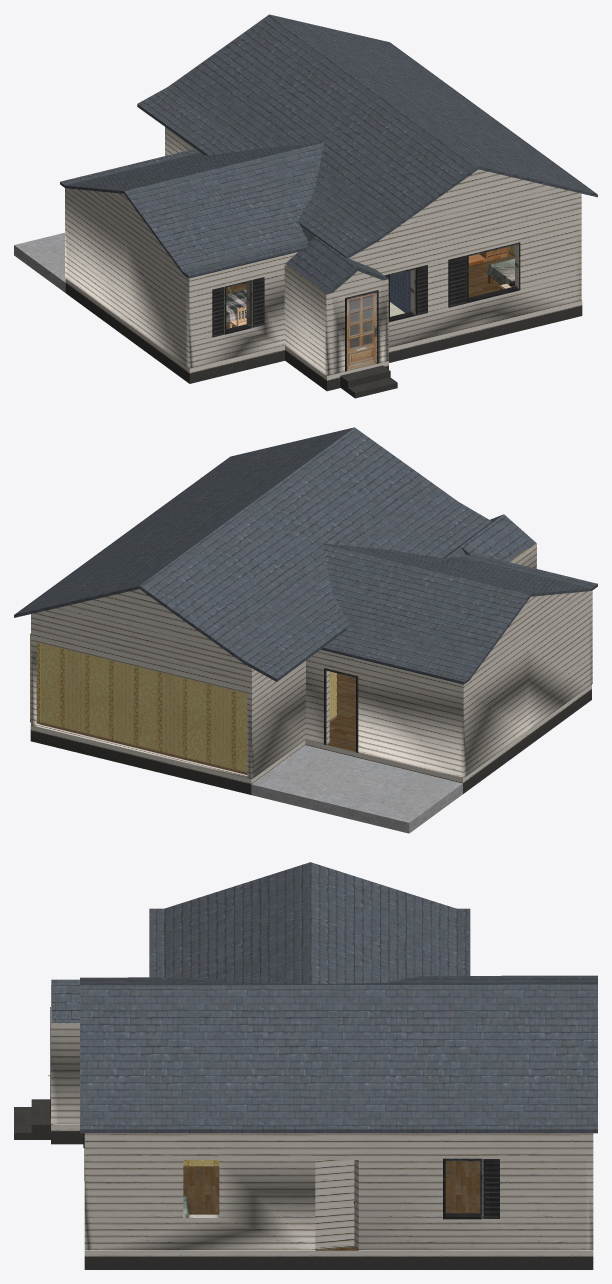
The model's file is house.glb.
3 views of the same model, one above another, from view 1: azimuth 30°, elevation 25°; view 2: azimuth 150°, elevation 25°; view 3: azimuth 270°, elevation 25° (orthographic). The views are drawn at different scales.
Parts seen in each view (by area): view 1: HOUSE; view 2: HOUSE; view 3: HOUSE.
Part boxes in pixels (x1,y1,x2,y2): HOUSE: [14, 14, 597, 398]; HOUSE: [14, 427, 597, 833]; HOUSE: [14, 862, 597, 1269].
Size of the model in its own units: 28.03 by 12.42 by 29.85.
Materials: 42 (42 with a texture image).
